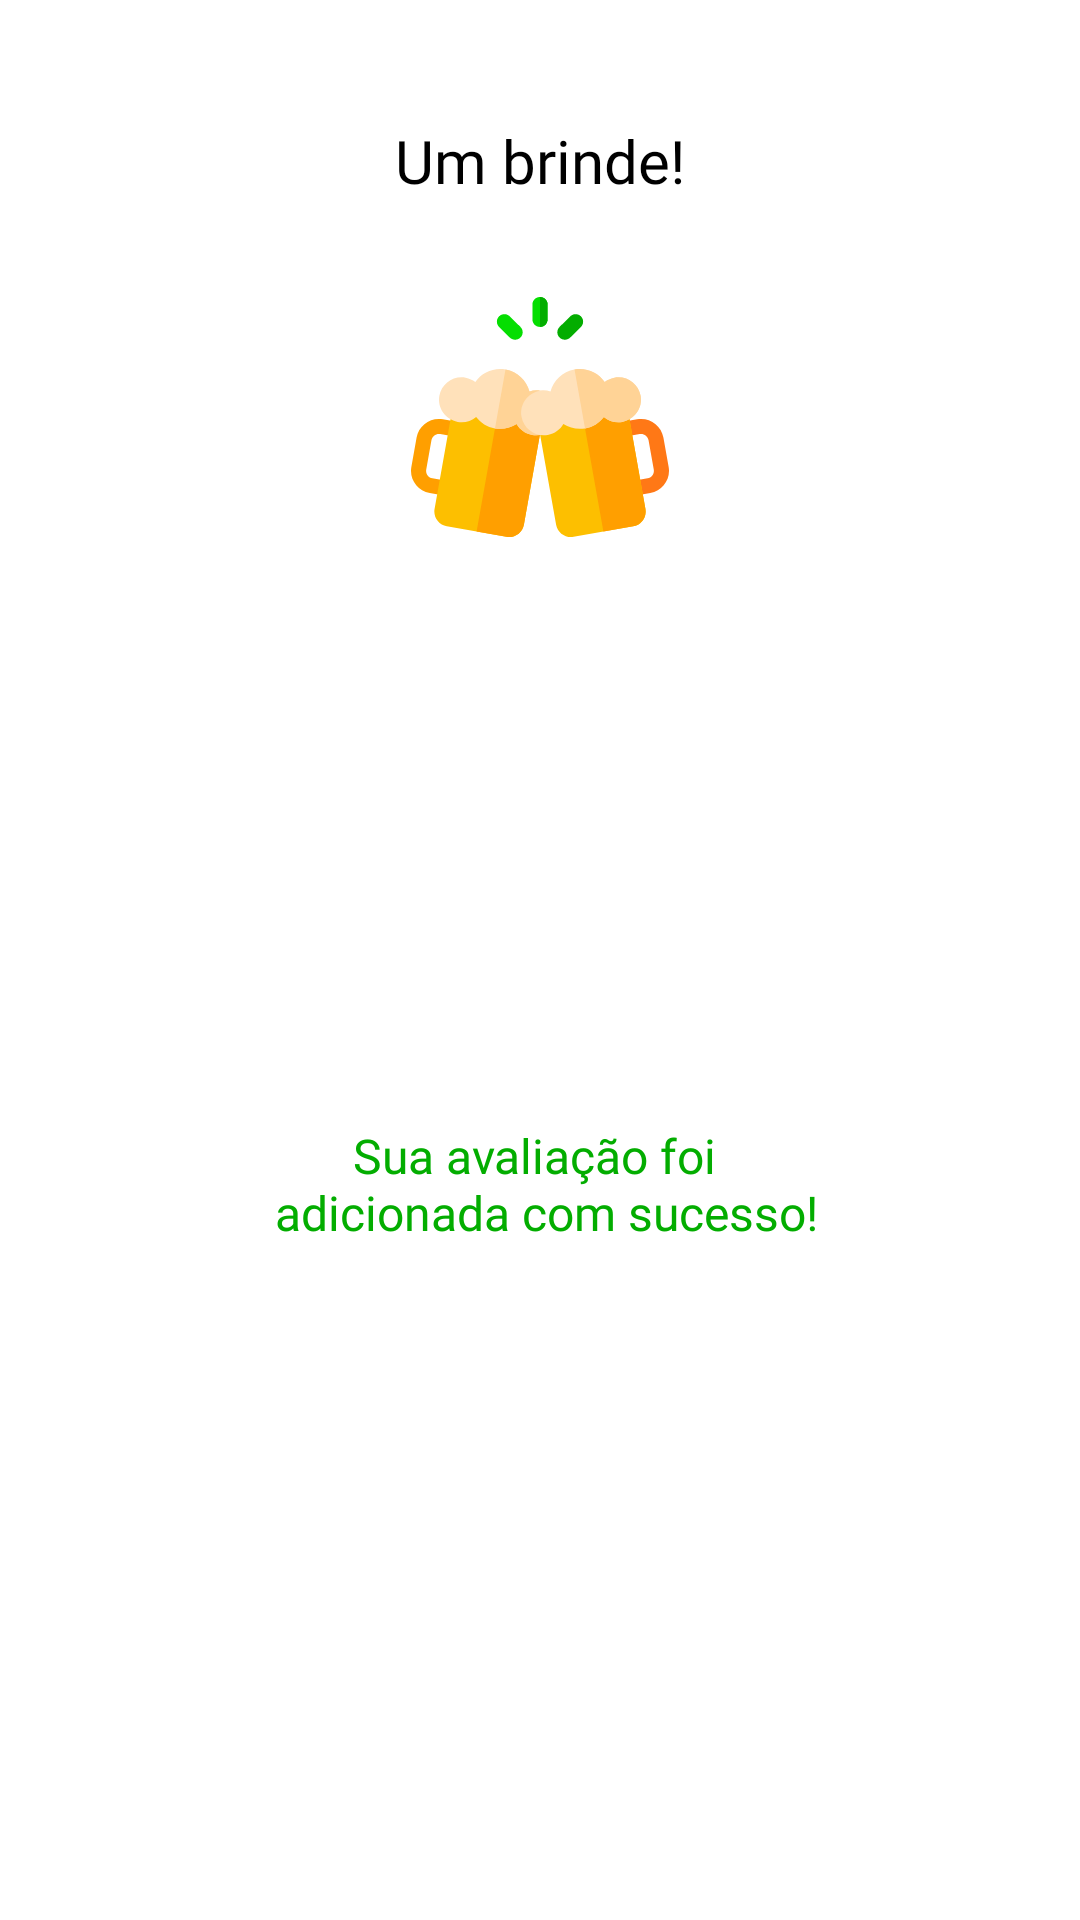

Where to tap for icons on this 1080 x 1920 app screen, as (x,y):
rating success: (540,417)
